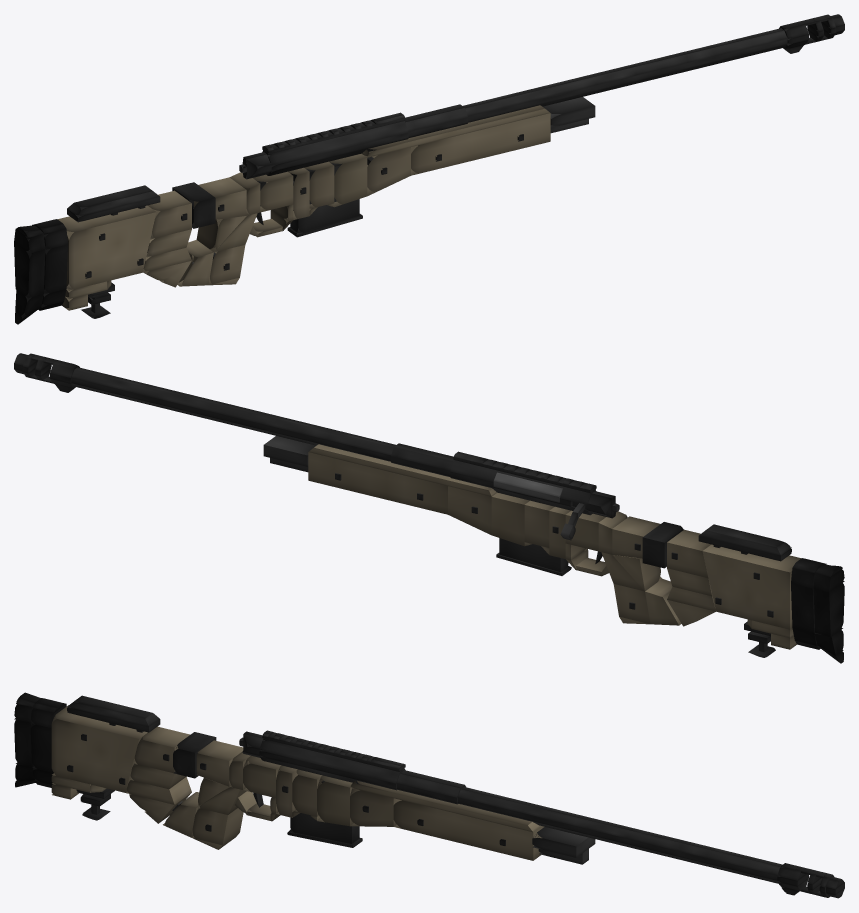
3 views of the same model, one above another, from view 1: azimuth 30°, elevation 25°; view 2: azimuth 150°, elevation 25°; view 3: azimuth 330°, elevation 25° (orthographic).
Visible parts, largest first — view 1: gunModel11, gunModel2, gunModel32, gunModel33, gunModel3, gunModel55, gunModel0, gunModel12, gunModel1, gunModel70, ammoModel0, gunModel10 (+20 smaller); view 2: gunModel11, gunModel2, gunModel32, gunModel33, gunModel3, gunModel0, gunModel1, gunModel12, gunModel70, gunModel10, gunModel73, ammoModel0 (+20 smaller); view 3: gunModel11, gunModel2, gunModel32, gunModel33, gunModel3, gunModel55, gunModel12, gunModel0, gunModel1, gunModel17, gunModel10, gunModel73 (+22 smaller).
Boxes of the visible parts, x1,y1,x2,y2 form: gunModel11: [58, 205, 156, 290]; gunModel2: [411, 113, 550, 175]; gunModel32: [463, 28, 787, 116]; gunModel33: [468, 38, 787, 121]; gunModel3: [361, 105, 549, 157]; gunModel55: [262, 121, 408, 165]; gunModel0: [329, 153, 367, 207]; gunModel12: [147, 190, 191, 239]; gunModel1: [367, 147, 410, 196]; gunModel70: [14, 239, 45, 298]; ammoModel0: [290, 162, 359, 234]; gunModel10: [194, 177, 246, 219]; gunModel11: [702, 544, 800, 629]; gunModel2: [308, 452, 447, 514]; gunModel32: [71, 367, 395, 455]; gunModel33: [71, 377, 390, 460]; gunModel3: [309, 444, 497, 496]; gunModel0: [491, 492, 529, 546]; gunModel1: [448, 486, 491, 535]; gunModel12: [667, 529, 711, 578]; gunModel70: [813, 583, 844, 637]; gunModel10: [612, 516, 660, 558]; gunModel73: [699, 524, 791, 555]; ammoModel0: [499, 538, 568, 572]; gunModel11: [51, 705, 147, 792]; gunModel2: [393, 800, 544, 860]; gunModel32: [458, 787, 784, 875]; gunModel33: [457, 797, 780, 880]; gunModel3: [350, 780, 541, 832]; gunModel55: [259, 740, 405, 783]; gunModel12: [133, 726, 189, 772]; gunModel0: [317, 775, 353, 826]; gunModel1: [350, 783, 401, 826]; gunModel17: [191, 803, 243, 845]; gunModel10: [196, 740, 243, 786]; gunModel73: [67, 695, 159, 726].
Bounding box in the file's own units: 30.1 × 4.49 × 2.14.
